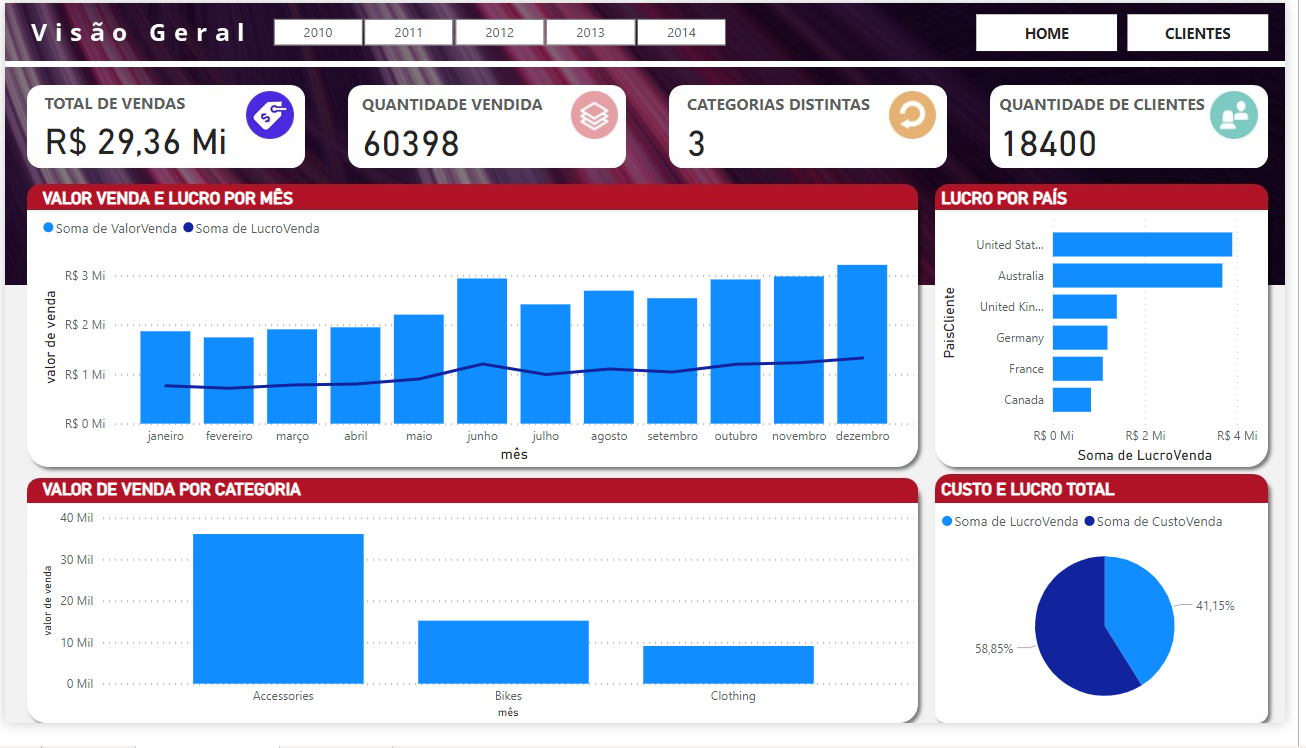

The page's visual inventory and layout, read from the dashboard file:
{"tool":"powerbi","page":{"name":"VISÃO GERAL","canvas":[1280,720],"ordinal":1},"visuals":[{"type":"lineClusteredColumnComboChart","title":"VALOR VENDA E LUCRO POR MÊS","fields":{"Y":["Sum(vw_AnaliseVendas.ValorVenda)"],"Category":["vw_AnaliseVendas.DataPedido.Variation.Hierarquia de datas.Mês"],"Y2":["Sum(vw_AnaliseVendas.LucroVenda)"]},"box":[33.1,185,881,279.4],"z":0},{"type":"cardVisual","fields":{"Data":["Sum(vw_AnaliseVendas.ValorVenda)"]},"box":[22.1,76,280.6,87],"z":1000},{"type":"barChart","title":"LUCRO POR PAÍS","fields":{"Y":["Sum(vw_AnaliseVendas.LucroVenda)"],"Category":["vw_AnaliseVendas.PaisCliente"]},"box":[931.2,185,333.8,280],"z":2000},{"type":"pieChart","title":"CUSTO E LUCRO TOTAL","fields":{"Y":["Sum(vw_AnaliseVendas.LucroVenda)","Sum(vw_AnaliseVendas.CustoVenda)"]},"box":[931.2,476.2,337.5,243.8],"z":4000},{"type":"cardVisual","title":"QUAN","fields":{"Data":["Sum(vw_AnaliseVendas.QuantidadeVendida)"]},"box":[339.4,77.2,280.6,87],"z":5000},{"type":"cardVisual","fields":{"Data":["vw_AnaliseVendas.qt_categoria"]},"box":[665.4,77.2,276.9,87],"z":6000},{"type":"cardVisual","fields":{"Data":["vw_AnaliseVendas.qt_cliente"]},"box":[977.8,77.2,290.4,87],"z":7000},{"type":"lineClusteredColumnComboChart","title":"VALOR DE VENDA POR CATEGORIA","fields":{"Category":["vw_AnaliseVendas.CategoriaProduto"],"Y":["Sum(vw_AnaliseVendas.QuantidadeVendida)"]},"box":[33.1,476.7,881,243.8],"z":8000},{"type":"pageNavigator","box":[971.2,11.2,293.8,37.5],"z":8004},{"type":"slicer","fields":{"Values":["vw_AnaliseVendas.DataPedido.Variation.Hierarquia de datas.Ano"]},"box":[242.5,8.8,502.5,40],"z":8005}]}

Visuals, with their boxes in screenshot pixels (x1, y1, x2, y2), scaled from the page's 1280x720 canvas onto the 1306x748 screenshot:
"VALOR VENDA E LUCRO POR MÊS" lineClusteredColumnComboChart: x1=34, y1=192, x2=933, y2=482
cardVisual - Sum(vw_AnaliseVendas.ValorVenda): x1=23, y1=79, x2=309, y2=169
"LUCRO POR PAÍS" barChart: x1=950, y1=192, x2=1291, y2=483
"CUSTO E LUCRO TOTAL" pieChart: x1=950, y1=495, x2=1294, y2=747
"QUAN" cardVisual: x1=346, y1=80, x2=633, y2=171
cardVisual - vw_AnaliseVendas.qt_categoria: x1=679, y1=80, x2=961, y2=171
cardVisual - vw_AnaliseVendas.qt_cliente: x1=998, y1=80, x2=1294, y2=171
"VALOR DE VENDA POR CATEGORIA" lineClusteredColumnComboChart: x1=34, y1=495, x2=933, y2=747
pageNavigator: x1=991, y1=12, x2=1291, y2=51
slicer - vw_AnaliseVendas.DataPedido.Variation.Hierarquia de datas.Ano: x1=247, y1=9, x2=760, y2=51
